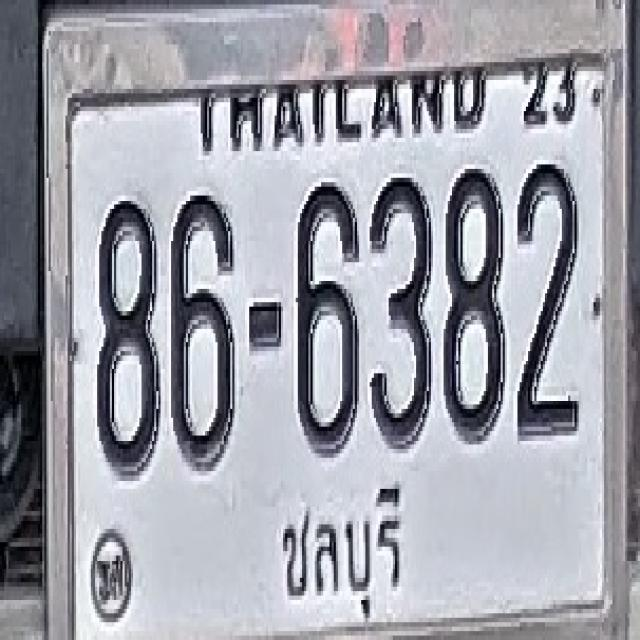2: (515, 160, 579, 436)
3: (370, 173, 431, 449)
6: (171, 191, 235, 467), (297, 180, 358, 456)
8: (96, 195, 160, 476), (442, 164, 504, 440)
CBI: (276, 476, 416, 636)
